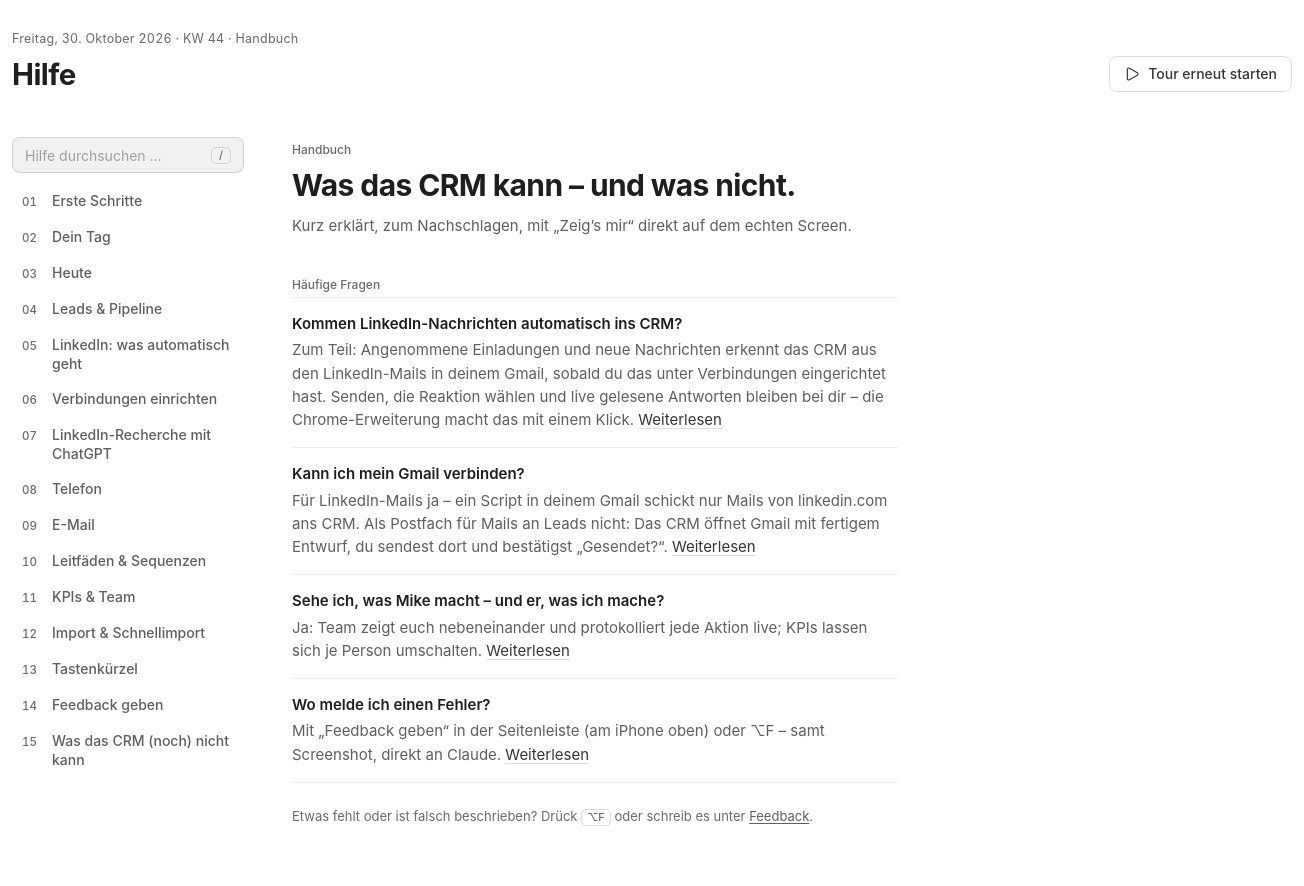
Test case: Hilfe › Suche filtert über den ganzen Text, Enter öffnet den ersten Treffer, nichts gefunden → Hinweis
Type "gmail verbinden" into the search field labelled "Hilfe durchsuchen" at (114, 155), box [25,138,203,172]
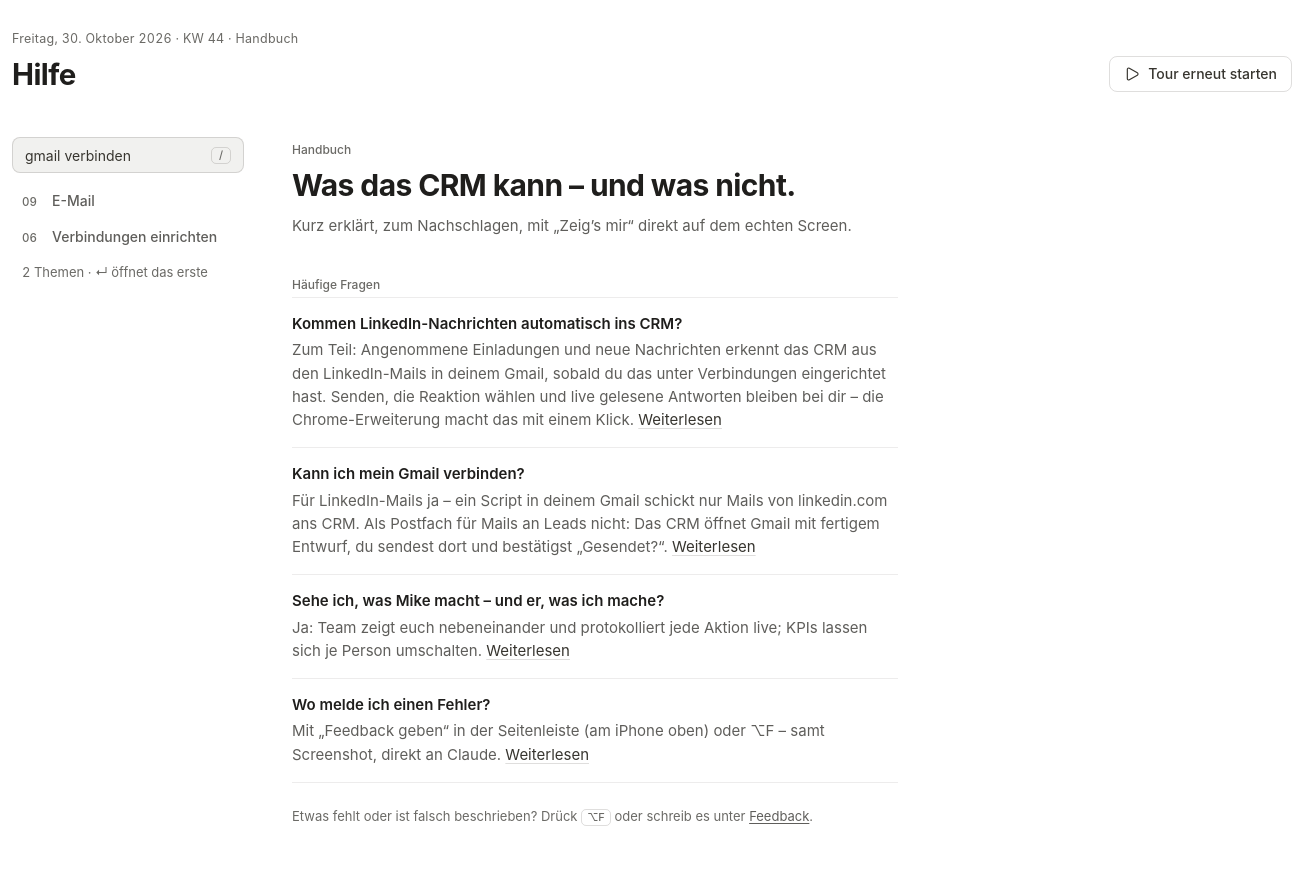
Expected: the links read "09E-Mail", "06Verbindungen einrichten", in this order, [22,192,95,209]; [22,228,217,245]
Press Enter in the search field named "Hilfe durchsuchen", box [25,138,203,172]
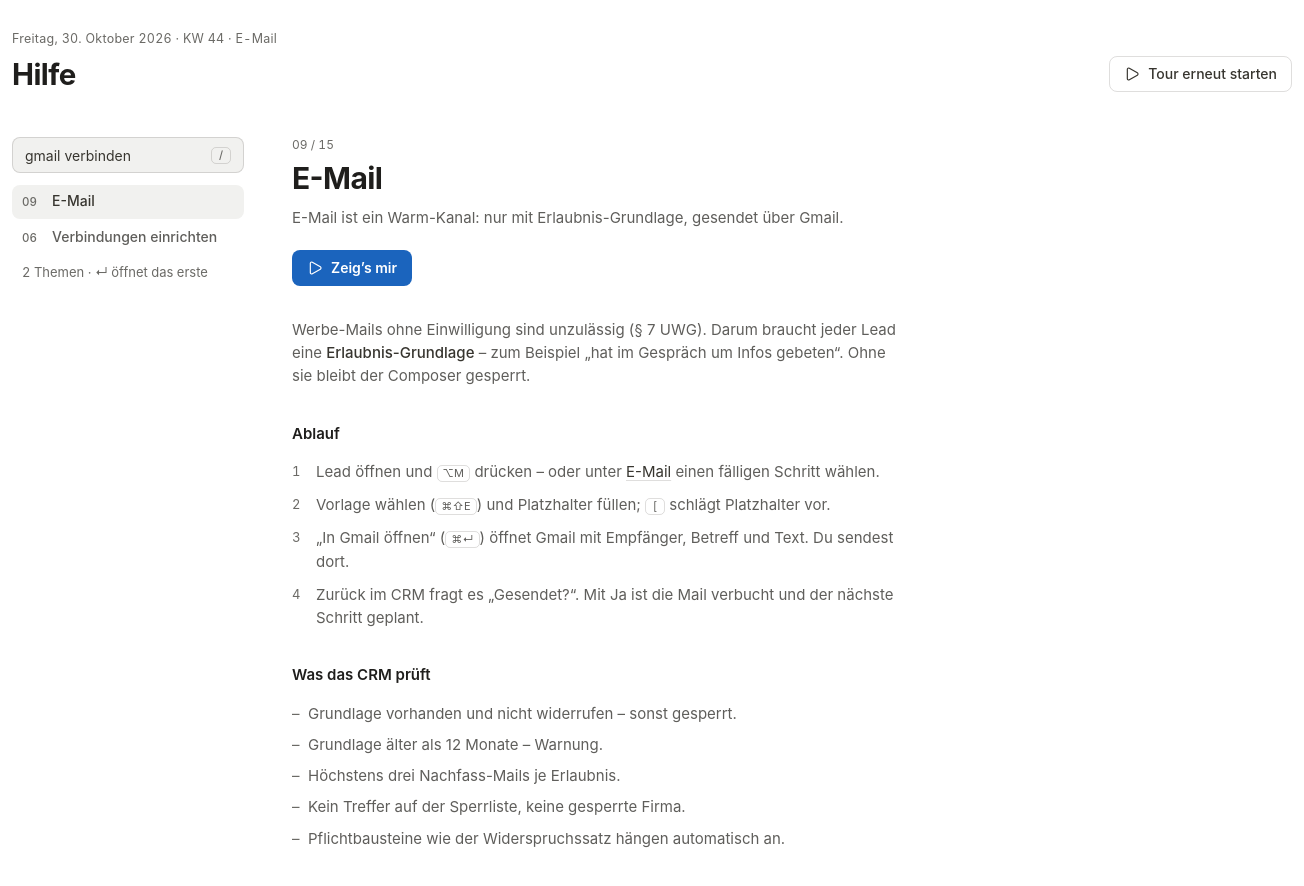
Replace the text in the search field named "Hilfe durchsuchen" with "xyzzy" at (114, 155), box [25,138,203,172]
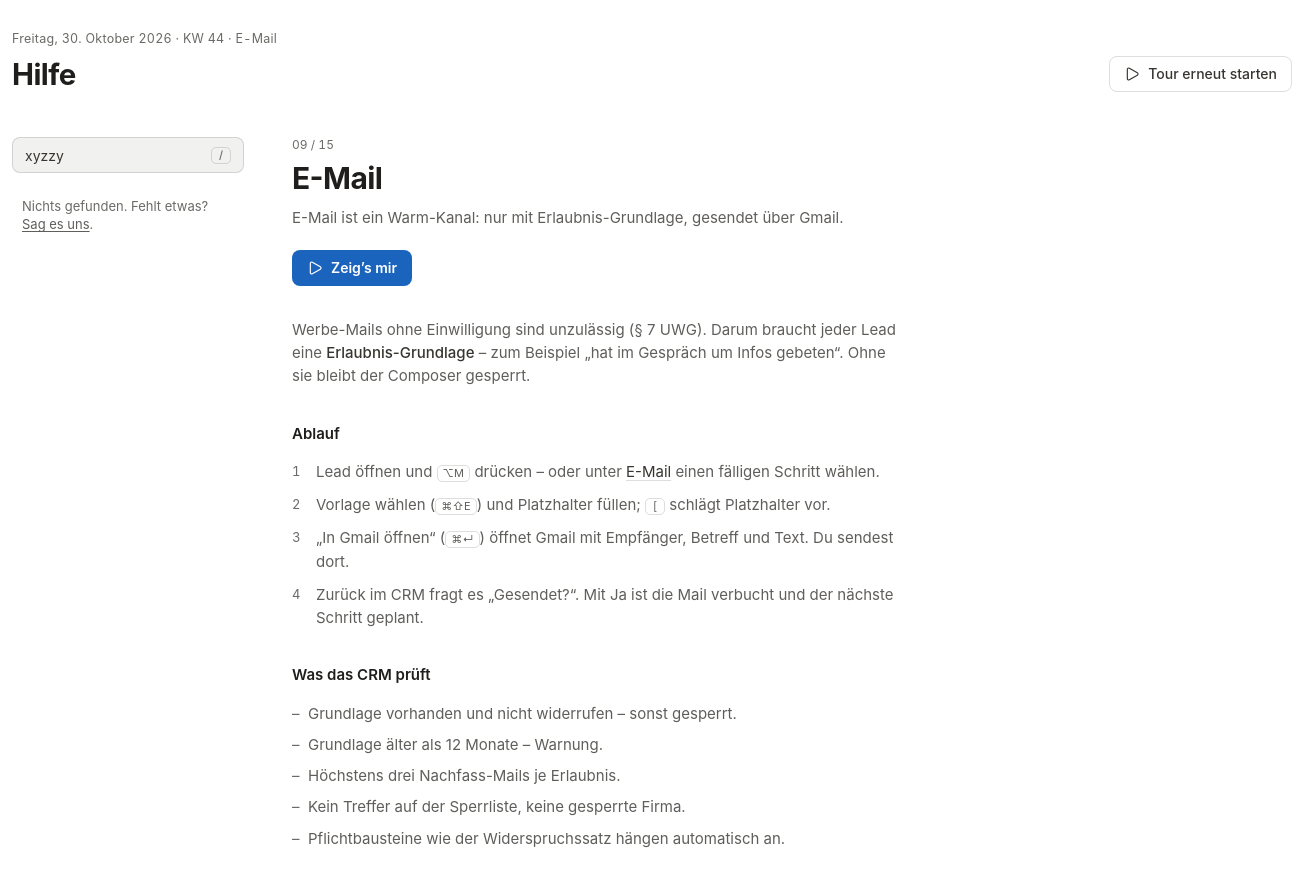
Expected: the text "Nichts gefunden. Fehlt etwas? Sag es uns ." is shown, [22,198,208,232]
